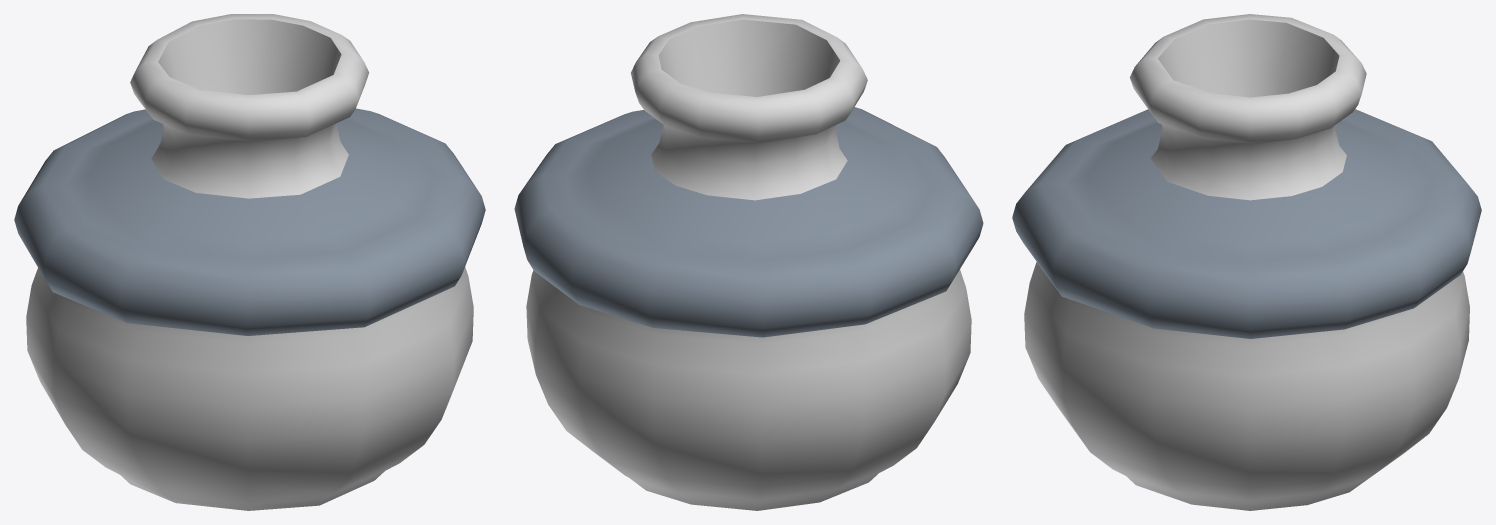
The model's file is Ink Well.fbx.
3 views of the same model, side by side, from view 1: azimuth 30°, elevation 25°; view 2: azimuth 150°, elevation 25°; view 3: azimuth 270°, elevation 25° (orthographic).
Parts seen in each view (by area): view 1: Cylinder; view 2: Cylinder; view 3: Cylinder.
Part boxes in pixels (x1,y1,x2,y2): Cylinder: (14,14,485,510); Cylinder: (514,14,983,510); Cylinder: (1012,14,1481,510).
Bounding box in the file's own units: 241 × 221 × 238.
